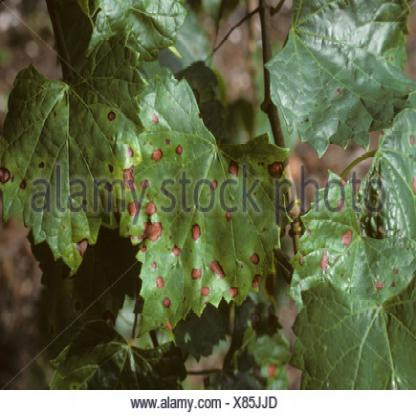grape leaf black rot: (120, 81, 294, 354), (1, 42, 143, 267), (264, 1, 411, 152)
